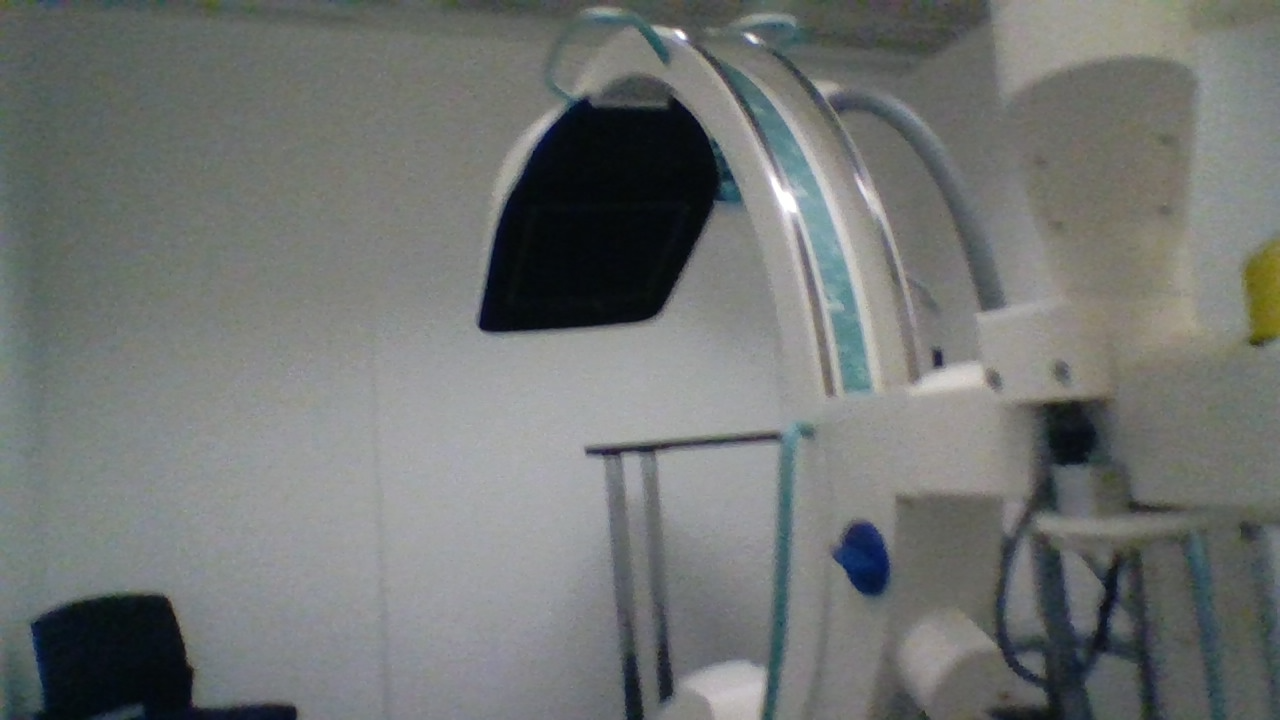carmLOCK: (828, 518, 892, 600)
carmUP: (473, 64, 724, 336)
